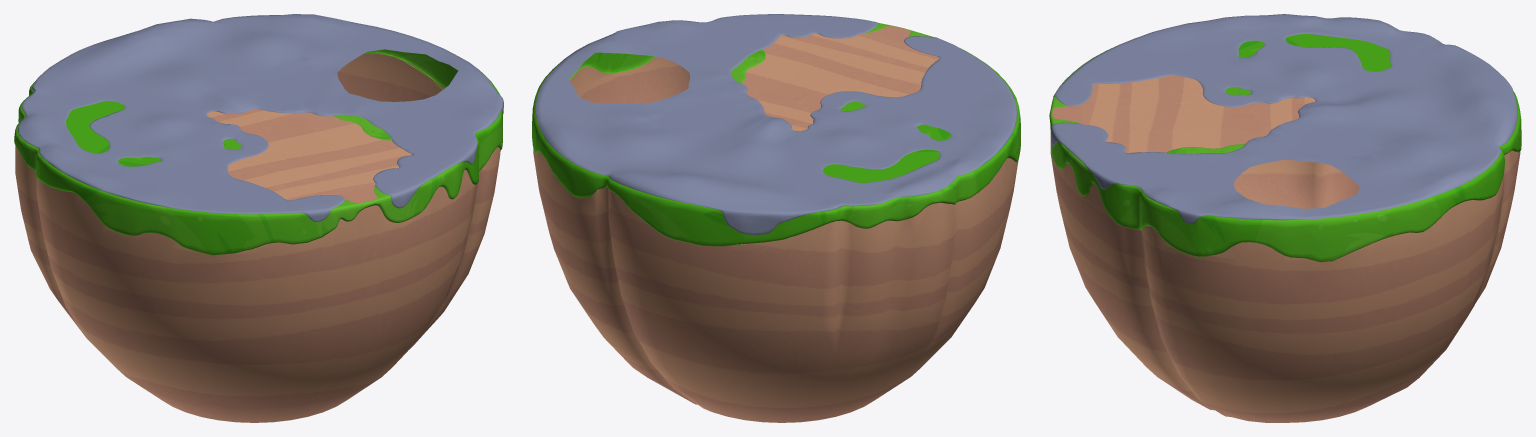
3 renders of one model, left to right at view 1: azimuth 30°, elevation 25°; view 2: azimuth 150°, elevation 25°; view 3: azimuth 270°, elevation 25°, orthographic.
Visible parts, largest first — view 1: wk_s_03c, wk_s_03a, wk_s_03b; view 2: wk_s_03c, wk_s_03a, wk_s_03b; view 3: wk_s_03c, wk_s_03a, wk_s_03b.
Part boxes in pixels (x1,y1,x2,y2): wk_s_03c: [15, 53, 500, 422]; wk_s_03a: [17, 14, 503, 221]; wk_s_03b: [14, 49, 502, 255]; wk_s_03c: [533, 26, 1018, 422]; wk_s_03a: [535, 14, 1017, 234]; wk_s_03b: [532, 23, 1020, 246]; wk_s_03c: [1050, 75, 1520, 422]; wk_s_03a: [1050, 14, 1517, 224]; wk_s_03b: [1049, 29, 1521, 262].
Size of the model in its own units: 45.38 by 43.55 by 31.62.
